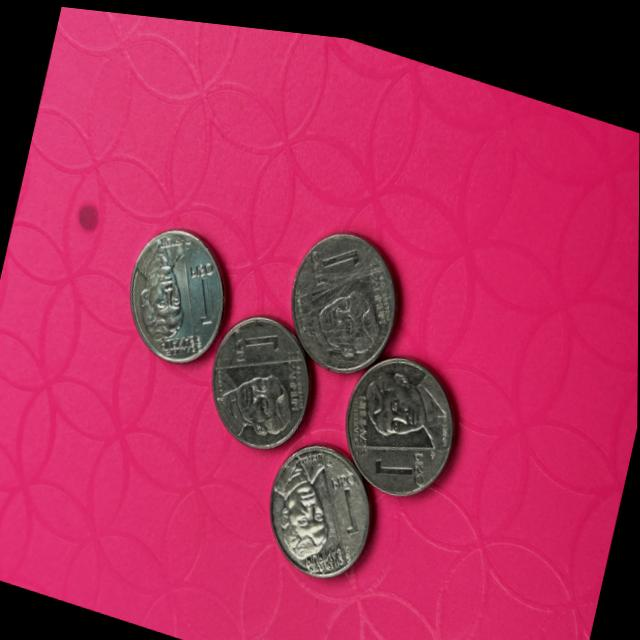1_New_Front: (171, 242, 233, 331), (325, 454, 376, 536), (305, 223, 368, 287), (365, 436, 434, 492), (229, 311, 283, 354)
